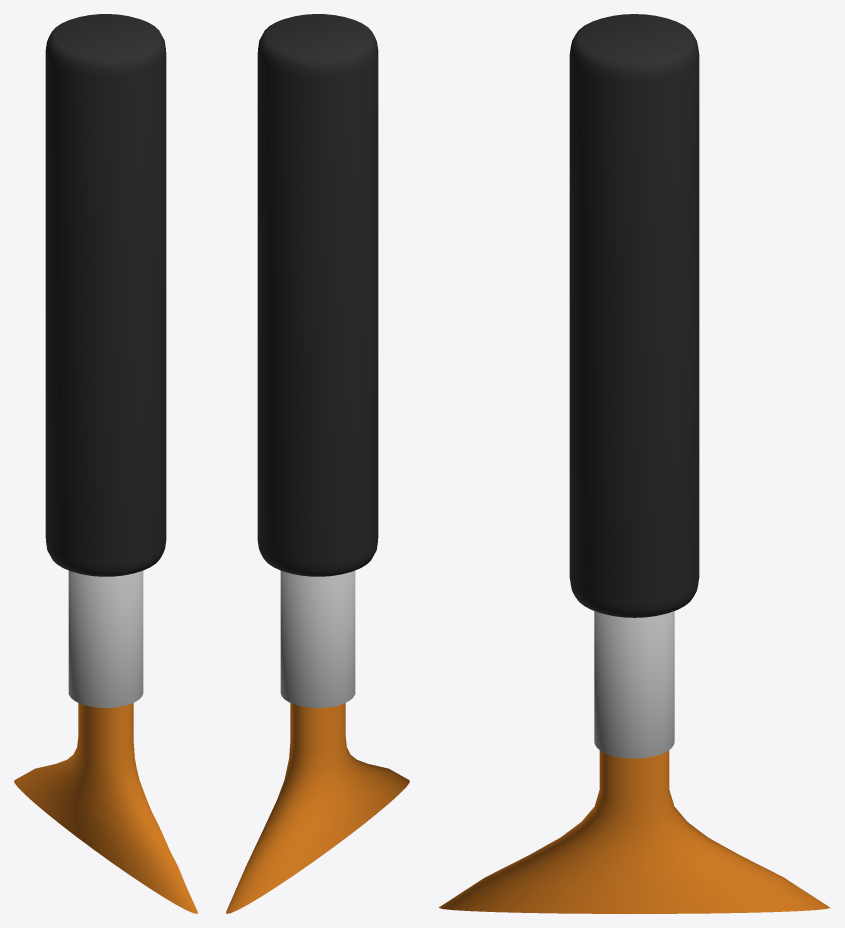
File: Brush.fbx
3 renders of one model, left to right at view 1: azimuth 30°, elevation 25°; view 2: azimuth 150°, elevation 25°; view 3: azimuth 270°, elevation 25°, orthographic. The views are drawn at different scales.
Visible parts, largest first — view 1: Cylinder.002; view 2: Cylinder.002; view 3: Cylinder.002.
Part boxes in pixels (x1=…): Cylinder.002: x1=14, y1=14, x2=197, y2=913; Cylinder.002: x1=226, y1=14, x2=409, y2=913; Cylinder.002: x1=438, y1=14, x2=830, y2=913.
Bounding box in the file's own units: 2.85 × 21.15 × 8.64.
